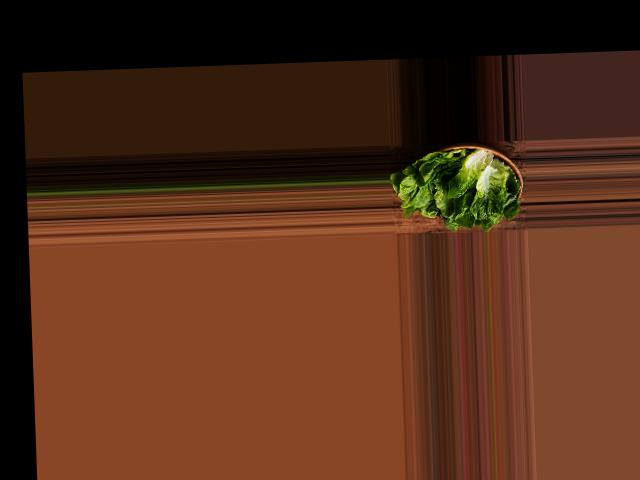lettuce: (391, 141, 529, 230)
